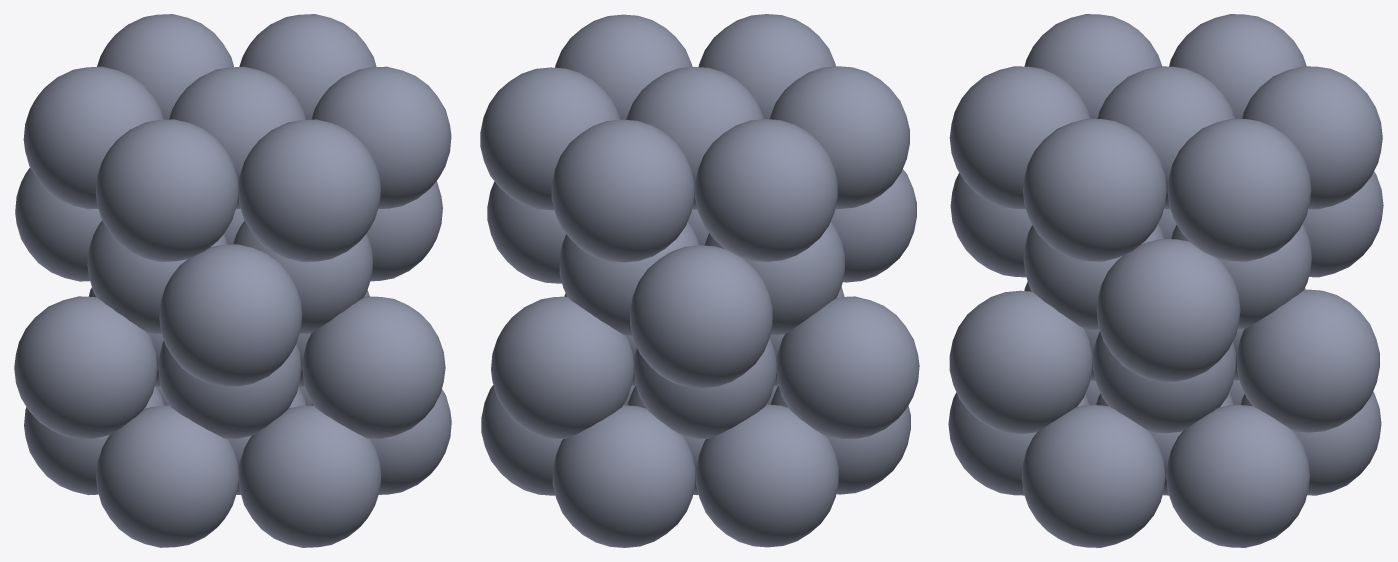
3 renders of one model, left to right at view 1: azimuth 30°, elevation 25°; view 2: azimuth 150°, elevation 25°; view 3: azimuth 270°, elevation 25°, orthographic.
Visible parts, largest first — view 1: GeoSphere560; view 2: GeoSphere560; view 3: GeoSphere560.
Part boxes in pixels (<box>): GeoSphere560: <box>14,14,451,547</box>; GeoSphere560: <box>480,14,919,547</box>; GeoSphere560: <box>948,14,1383,547</box>.
Bounding box in the file's own units: 132 × 128 × 121.
Materials: 1 (1 with a texture image).
